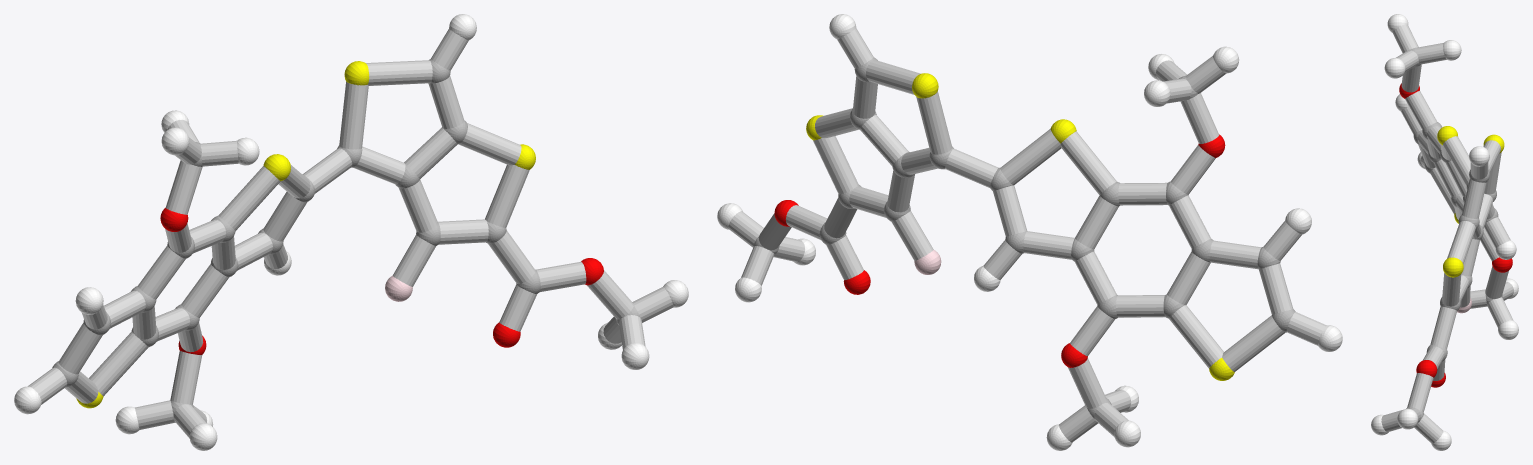
Rendered from color.glb.
3 views of the same model, side by side, from view 1: azimuth 30°, elevation 25°; view 2: azimuth 150°, elevation 25°; view 3: azimuth 270°, elevation 25° (orthographic). The views are drawn at different scales.
Parts seen in each view (by area): view 1: grp15205, grp8689, grp1, grp13395, grp7241; view 2: grp15205, grp8689, grp1, grp13395, grp7241; view 3: grp15205, grp8689, grp1, grp7241, grp13395.
Part boxes in pixels (x1,y1,x2,y2): grp15205: [27, 29, 673, 438]; grp8689: [14, 14, 688, 450]; grp1: [52, 59, 639, 422]; grp13395: [160, 208, 603, 354]; grp7241: [76, 61, 535, 408]; grp15205: [728, 28, 1326, 442]; grp8689: [717, 14, 1342, 450]; grp1: [753, 57, 1295, 418]; grp13395: [774, 134, 1225, 367]; grp7241: [806, 73, 1234, 380]; grp15205: [1381, 24, 1513, 443]; grp8689: [1371, 14, 1518, 450]; grp1: [1406, 47, 1502, 418]; grp7241: [1437, 126, 1504, 277]; grp13395: [1399, 83, 1512, 387].
Bounding box in the file's own units: 16.32 × 9.15 × 4.25.
